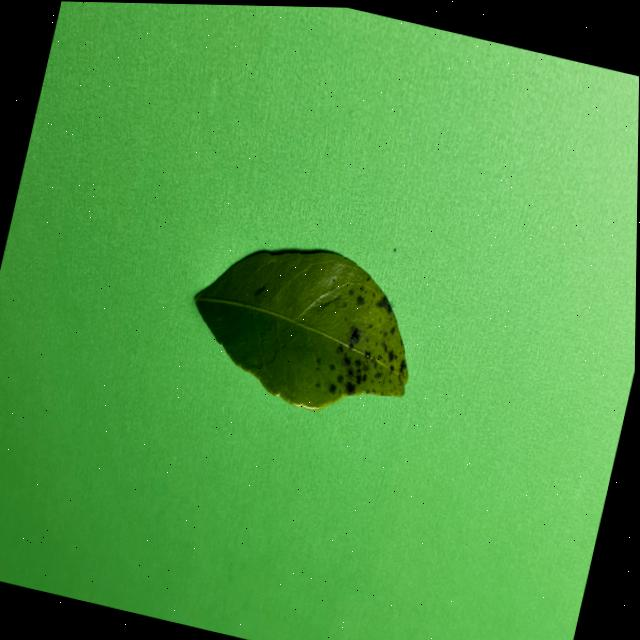sooty_mold: (195, 251, 408, 408)
